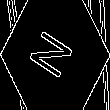N_SE: (28, 25, 82, 85)
